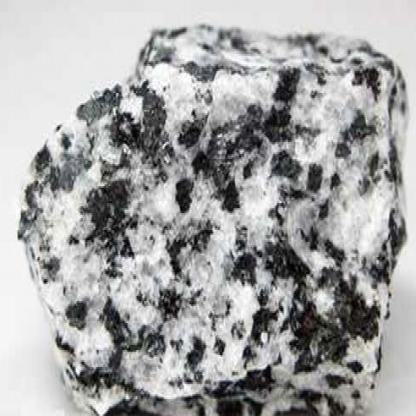Igneous_Diorite: (70, 67, 352, 378)
